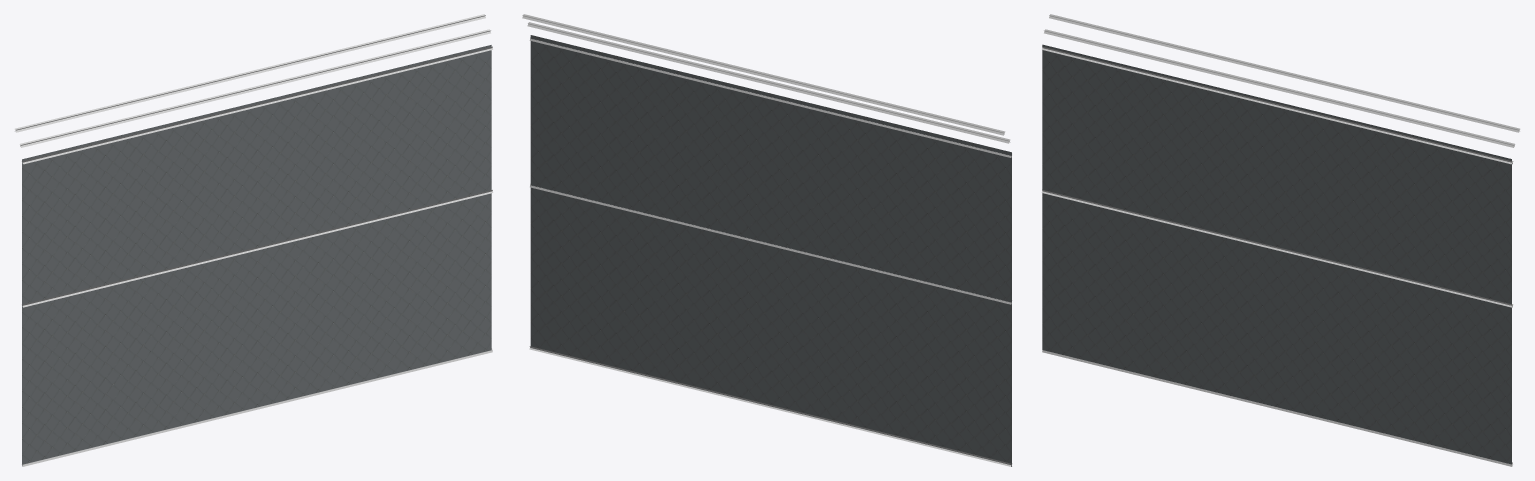
File: fence.obj
3 views of the same model, side by side, from view 1: azimuth 30°, elevation 25°; view 2: azimuth 150°, elevation 25°; view 3: azimuth 330°, elevation 25° (orthographic). The views are drawn at different scales.
Parts seen in each view (by area): view 1: chainlink_fence_no_columns.001; view 2: chainlink_fence_no_columns.001; view 3: chainlink_fence_no_columns.001.
Part boxes in pixels (bbox=[...]): chainlink_fence_no_columns.001: bbox=[14, 14, 493, 466]; chainlink_fence_no_columns.001: bbox=[522, 14, 1012, 466]; chainlink_fence_no_columns.001: bbox=[1041, 14, 1520, 466].
Size of the model in its own units: 402 by 271 by 13.18.
